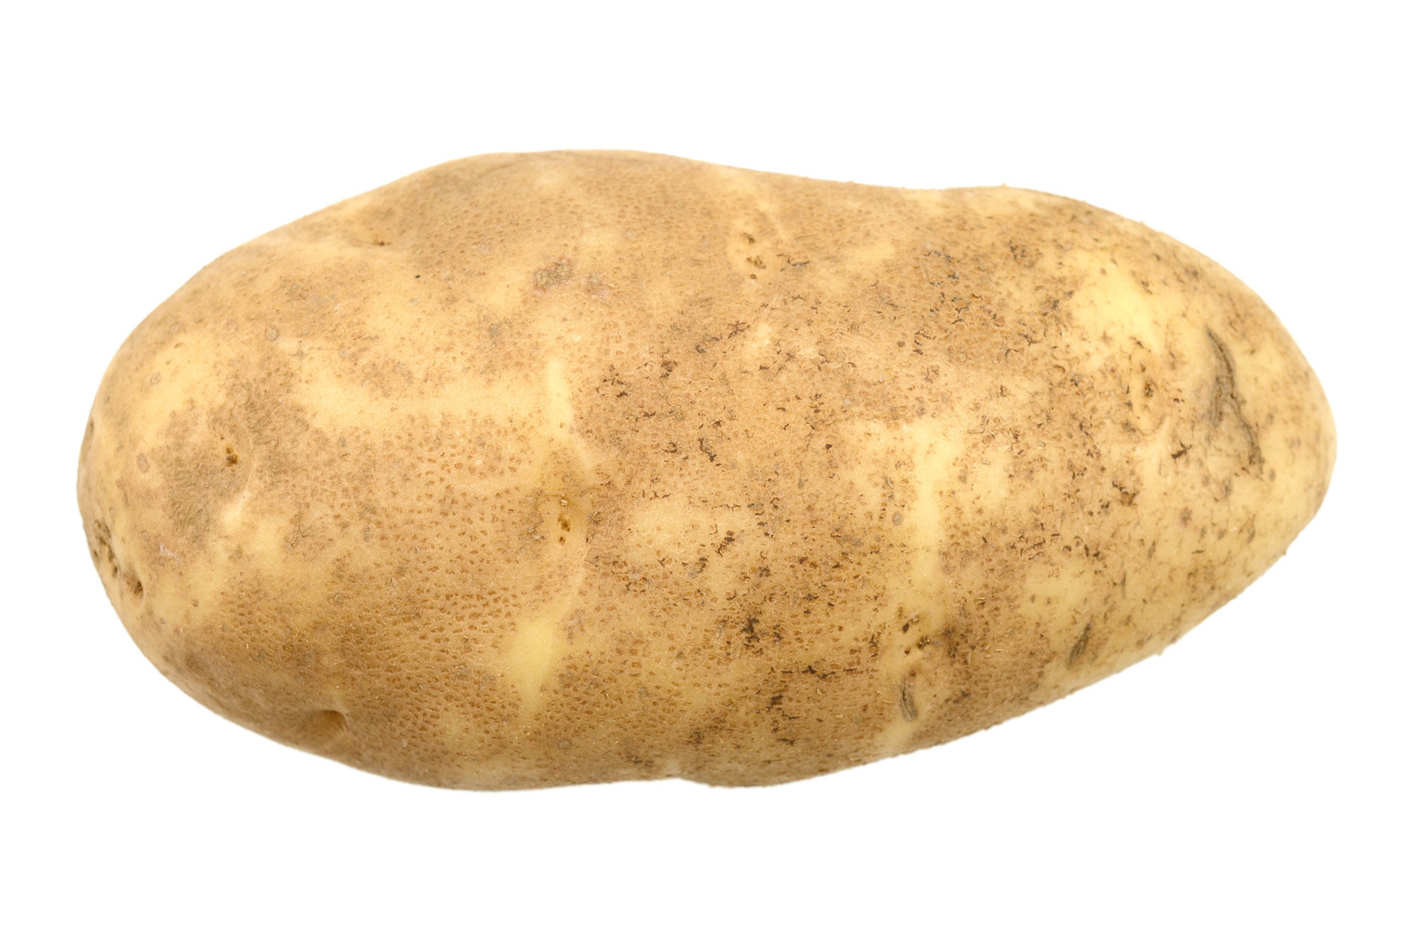potato: (70, 144, 1346, 795)
